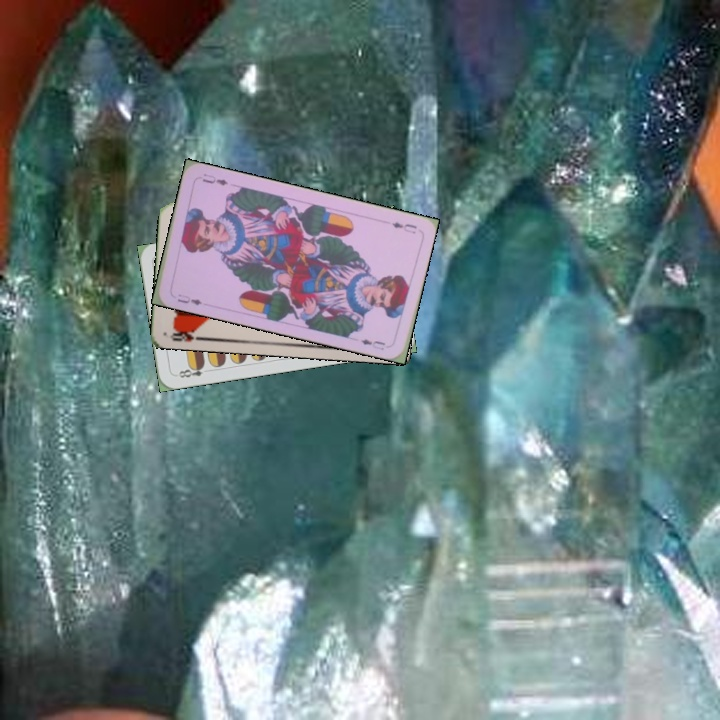E8: (172, 361, 212, 380)
EU: (387, 218, 419, 237), (173, 290, 205, 308)
HO: (166, 324, 206, 345)
